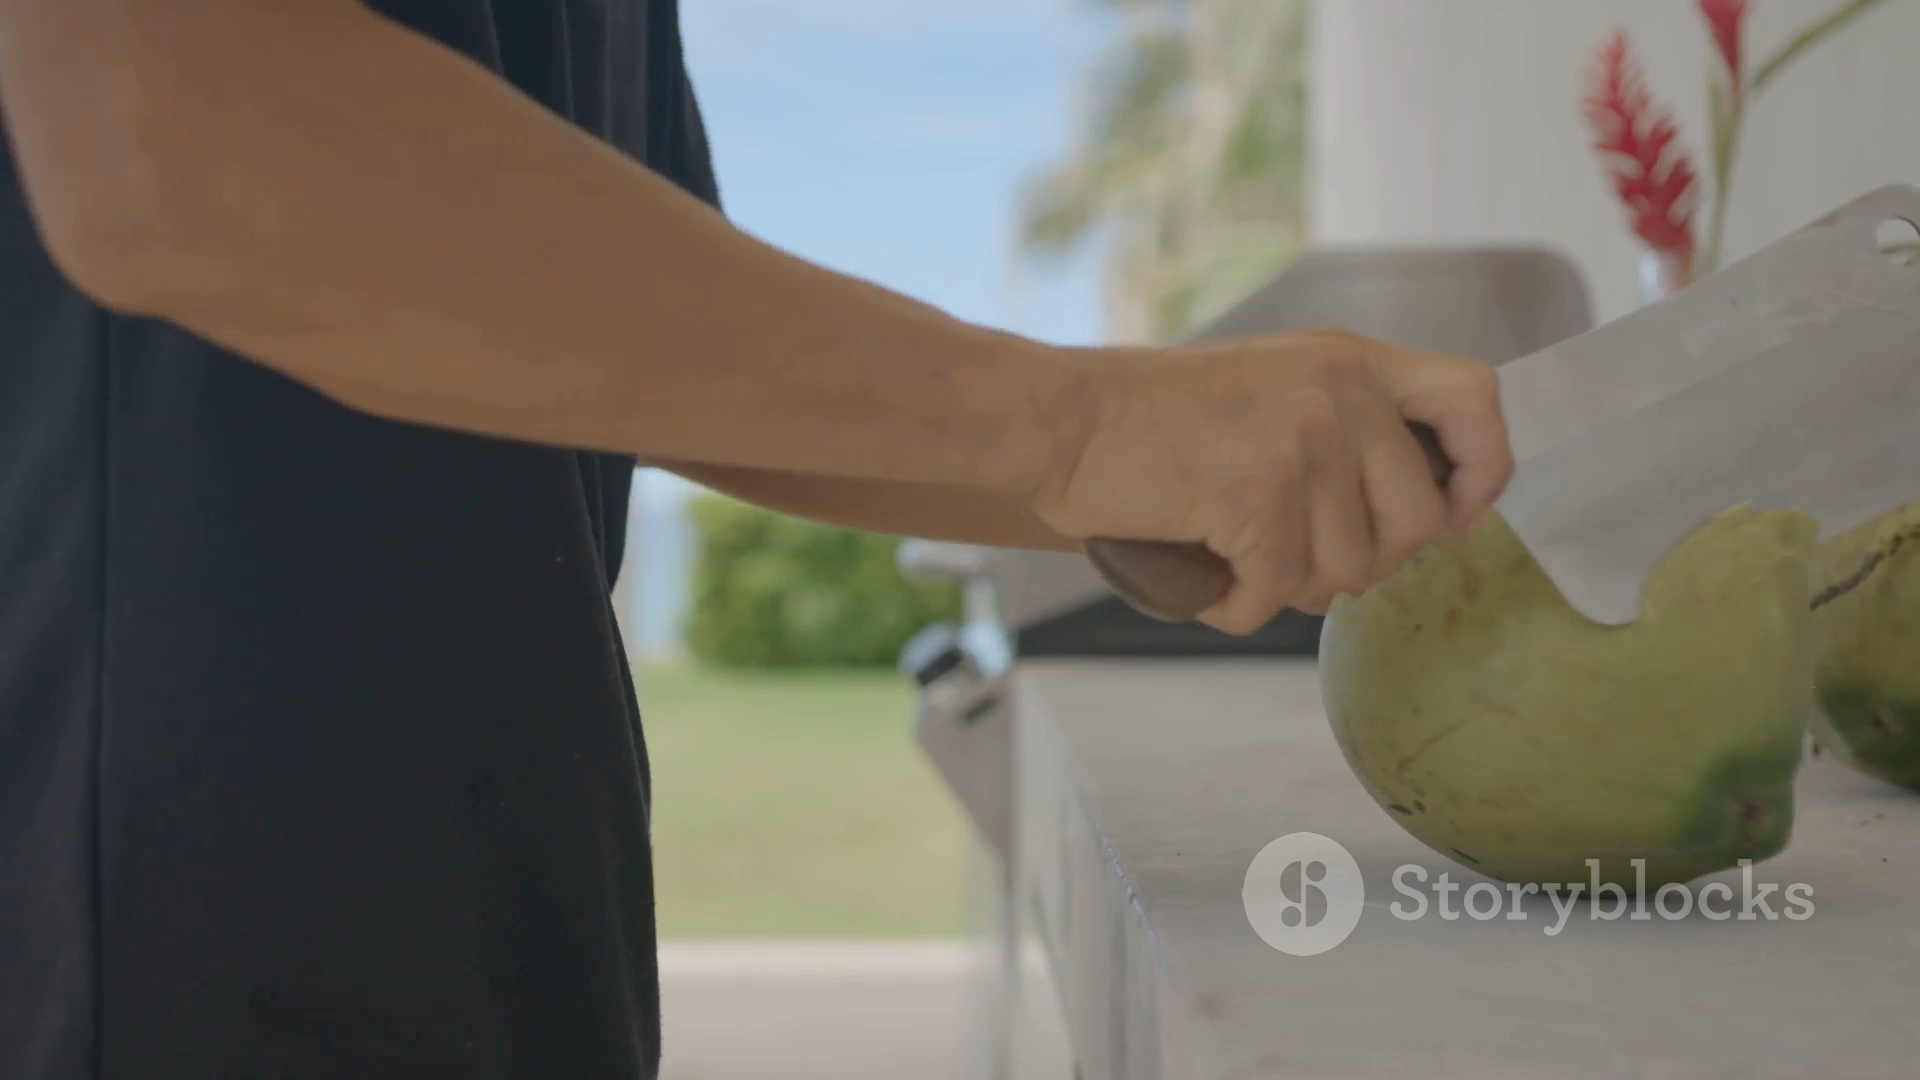cortante: (1460, 181, 1920, 632)
